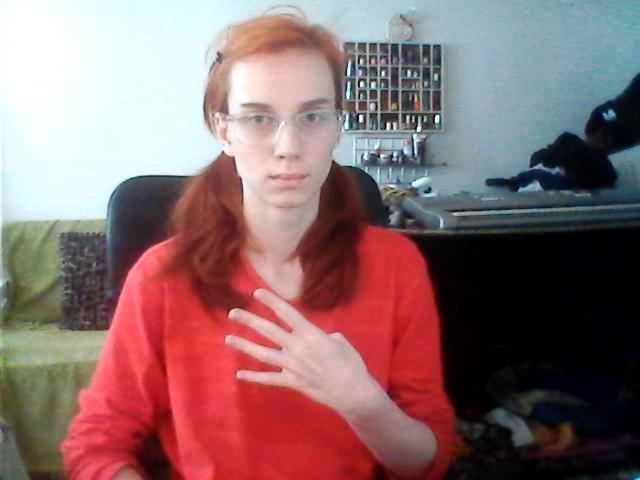styri: (215, 283, 373, 413)
